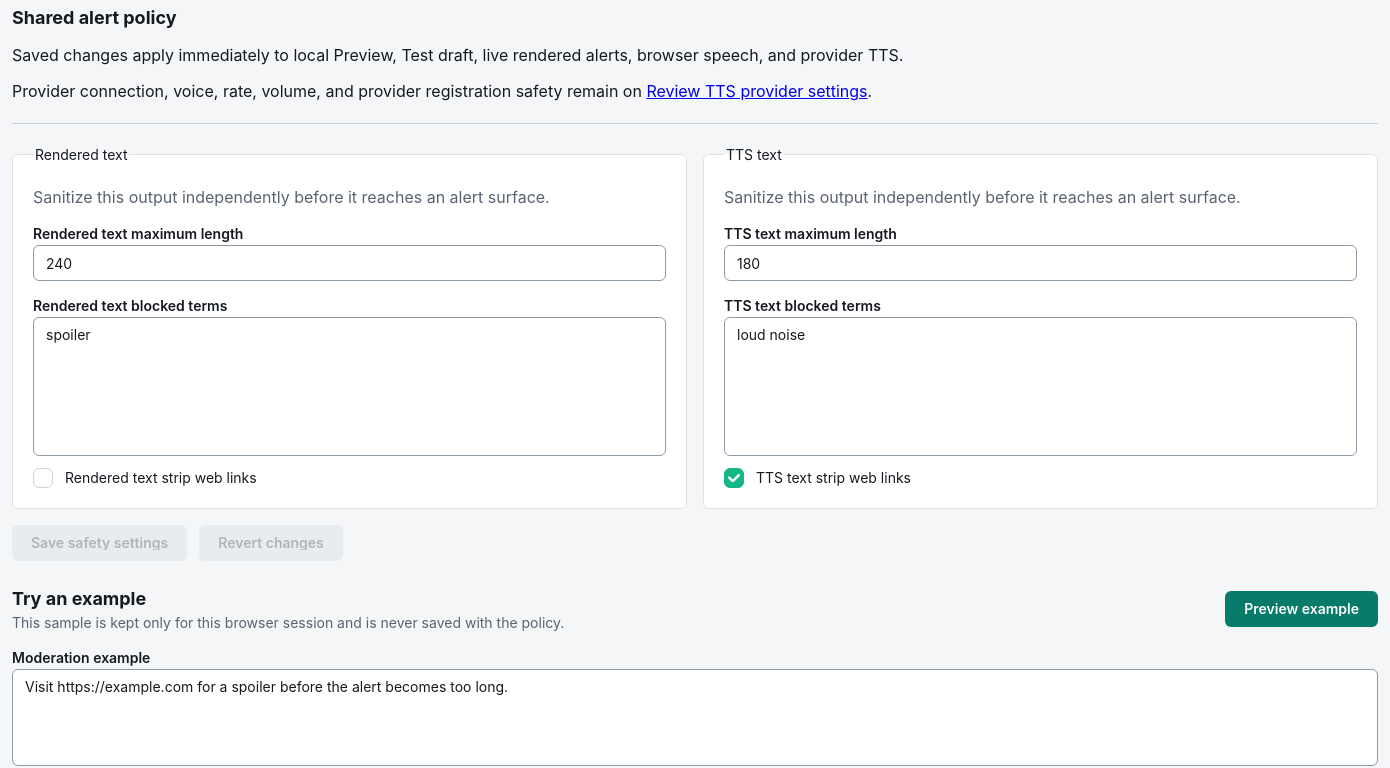
AlertSafetyPage › reverts the full policy but leaves the session example unchanged
Expected: the element "Rendered text" is shown, [12,144,687,509]
Replace the text in the number field labelled "Rendered text maximum length" with "50". click: (350, 263)
box: [33,245,666,281]
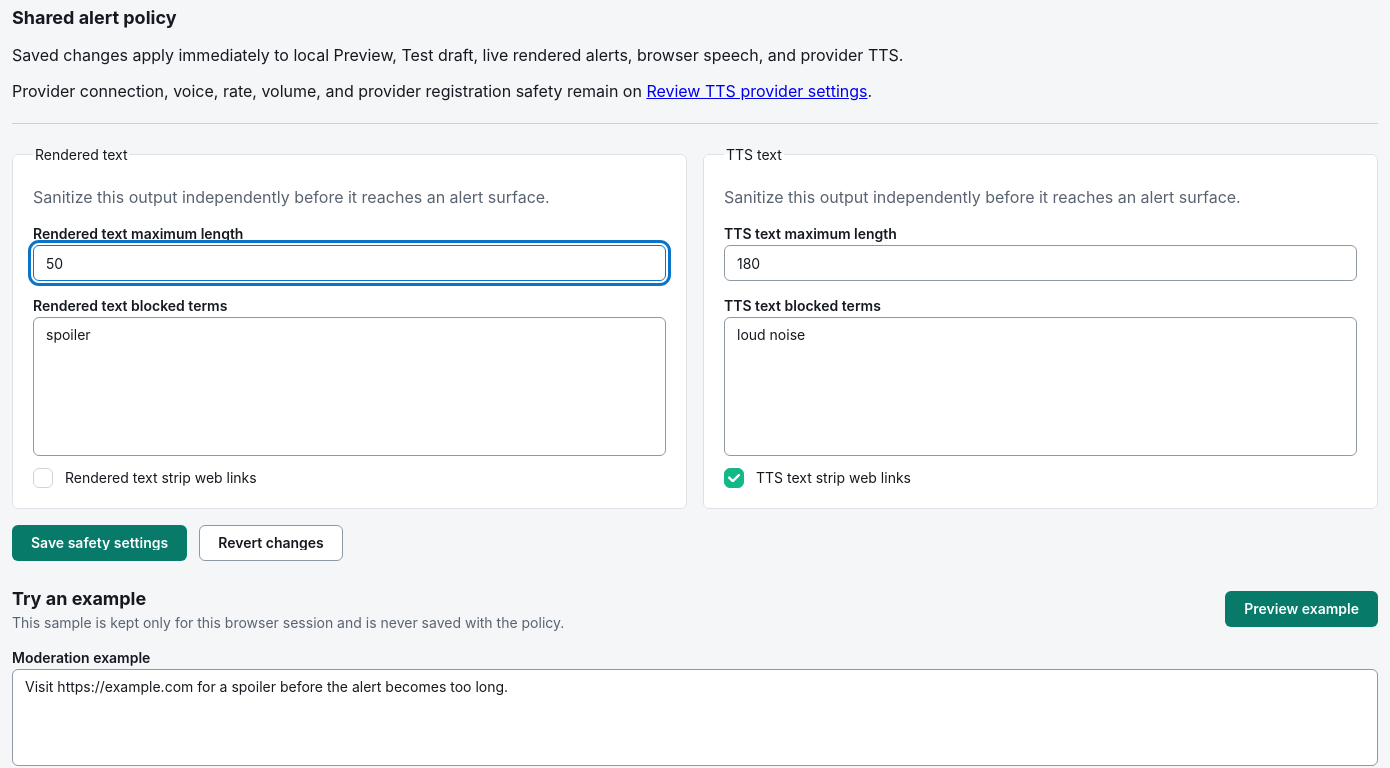
Replace the text in the text box labelled "Moderation example" with "Session example". click: (695, 718)
box: [12,669,1378,766]
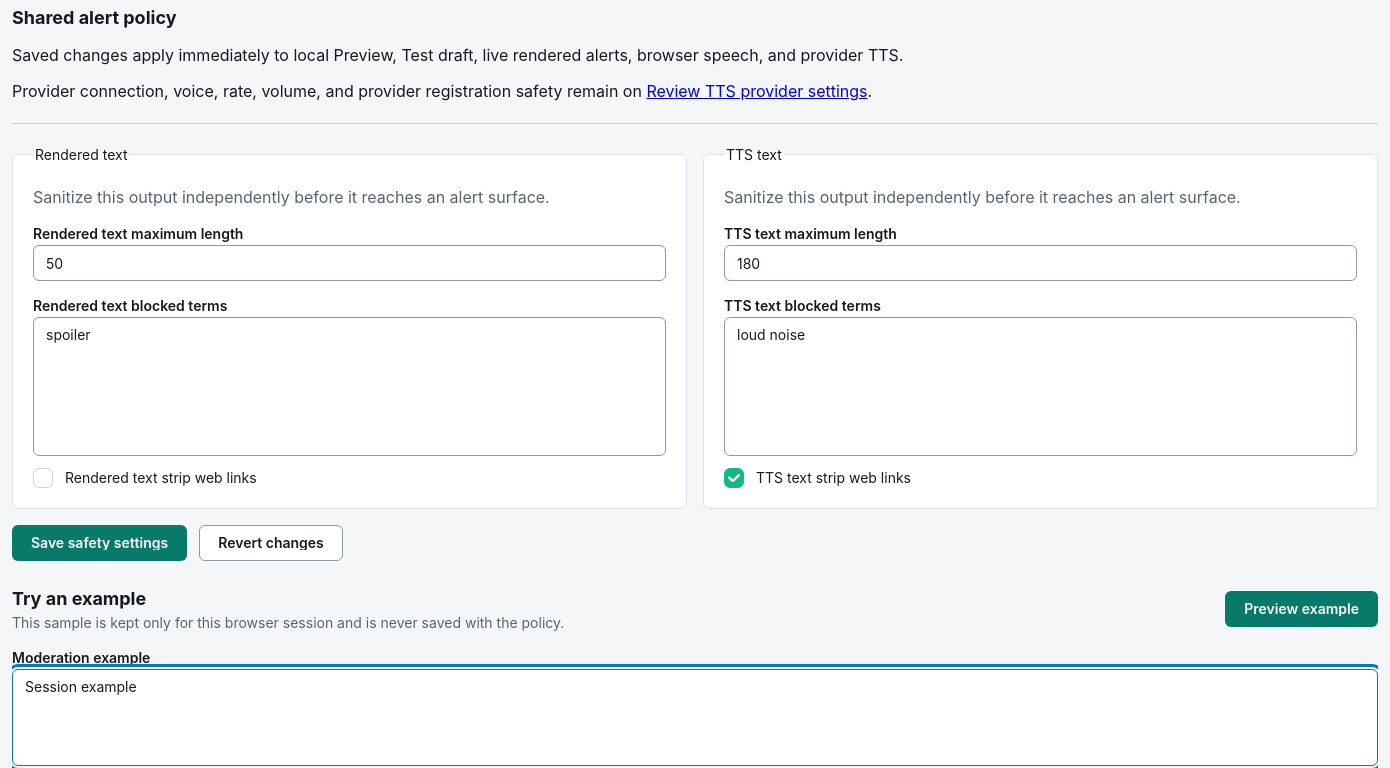
Click the button "Revert changes". click: (271, 543)
box: [199,525,343,561]
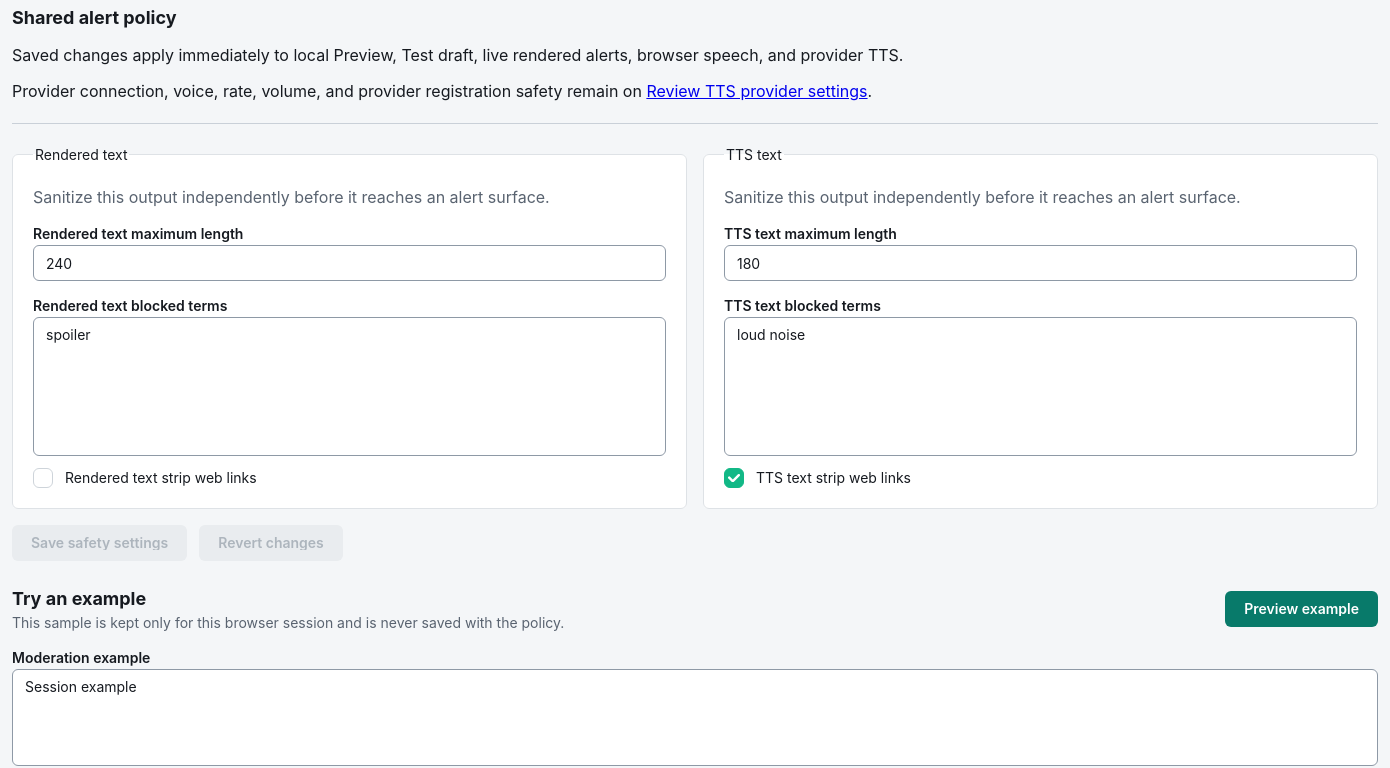
Now the number field labelled "Rendered text maximum length" holds "240", box [33,245,666,281]
